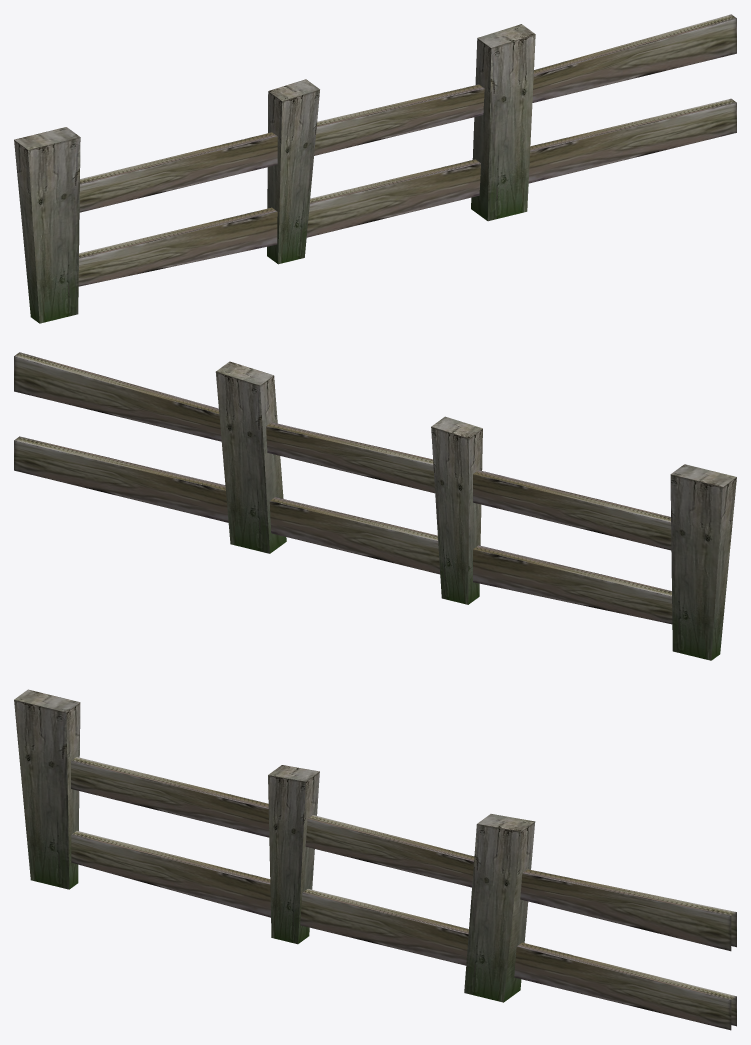
The model's file is woodfence_20.fbx.
The picture shows the model from 3 angles, top to bottom: view 1: azimuth 30°, elevation 25°; view 2: azimuth 150°, elevation 25°; view 3: azimuth 330°, elevation 25°; orthographic projection.
Visible parts, largest first — view 1: polySurface3, post3; view 2: polySurface3, post3; view 3: polySurface3, post3.
Part boxes in pixels (left/top/right/bottom): polySurface3: left=78, top=14, right=736, bottom=286; post3: left=14, top=24, right=535, bottom=323; polySurface3: left=14, top=352, right=672, bottom=624; post3: left=215, top=361, right=736, bottom=660; polySurface3: left=71, top=757, right=736, bottom=1030; post3: left=14, top=689, right=535, bottom=1002.
Bounding box in the file's own units: 2058 × 494 × 97.45.
Materials: 1 (1 with a texture image).
